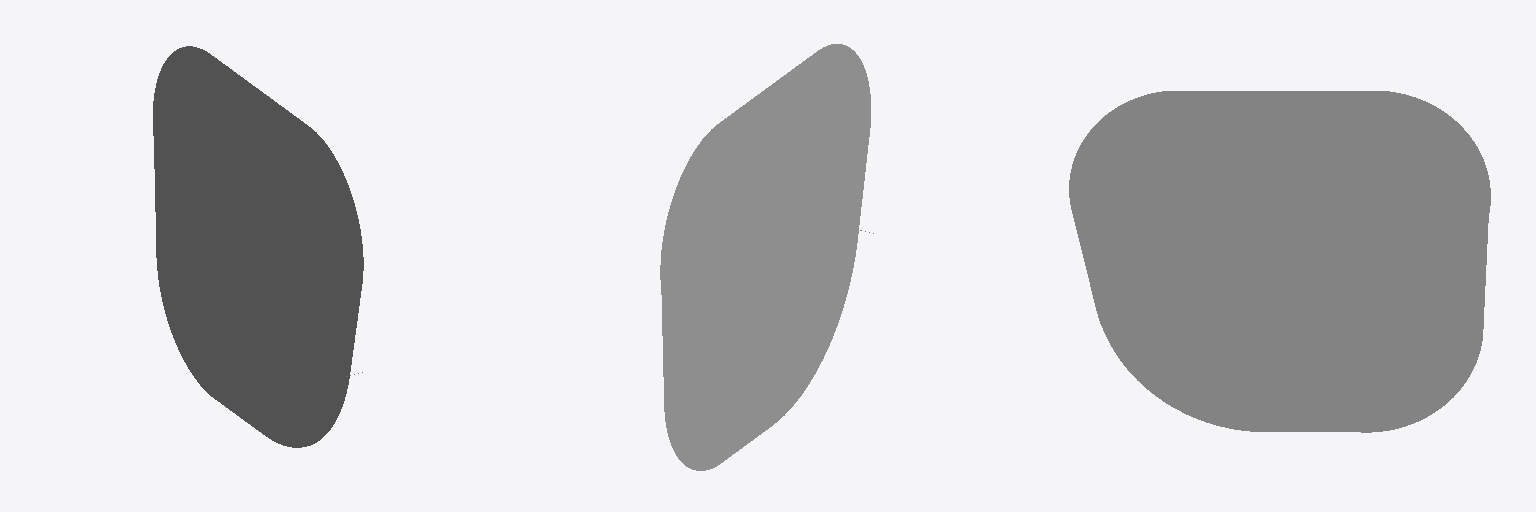
Rendered from lense.obj.
3 renders of one model, left to right at view 1: azimuth 30°, elevation 25°; view 2: azimuth 150°, elevation 25°; view 3: azimuth 270°, elevation 25°, orthographic.
Size of the model in its own units: 2.8 by 46.24 by 50.34.